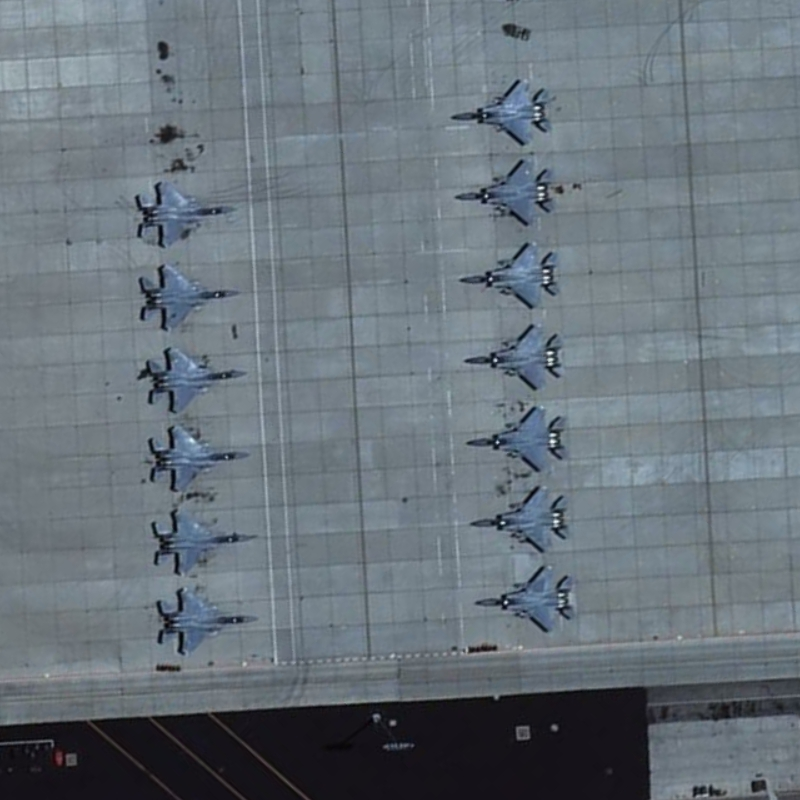A13: (460, 478, 576, 563), (449, 233, 567, 315), (146, 501, 263, 583), (446, 152, 565, 232), (444, 69, 560, 150), (471, 558, 585, 639), (130, 172, 240, 255), (149, 581, 264, 660), (141, 420, 256, 497), (456, 316, 568, 395), (460, 402, 574, 479), (134, 342, 251, 417), (130, 260, 242, 337)
